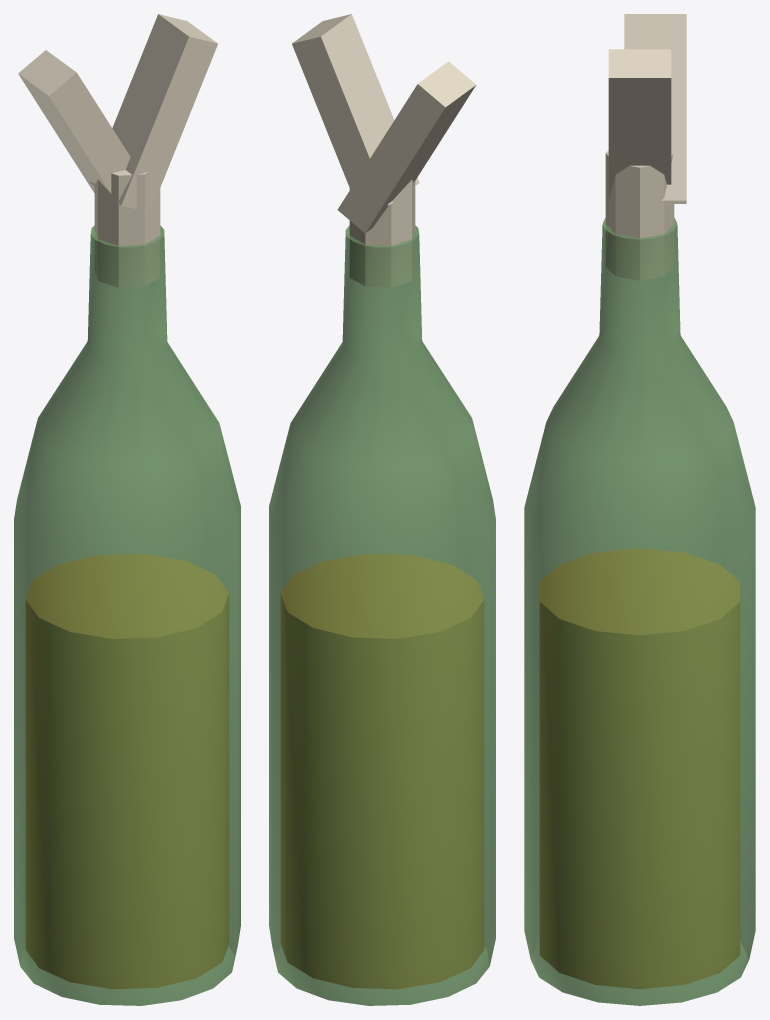
The model's file is molotov.glb.
The picture shows the model from 3 angles, left to right: view 1: azimuth 30°, elevation 25°; view 2: azimuth 150°, elevation 25°; view 3: azimuth 270°, elevation 25°; orthographic projection.
Visible parts, largest first — view 1: molotov_mesh; view 2: molotov_mesh; view 3: molotov_mesh.
Boxes of the visible parts, x1,y1,x2,y2 form: molotov_mesh: (14,14,240,1005); molotov_mesh: (269,14,495,1005); molotov_mesh: (524,14,755,1005).
Size of the model in its own units: 0.074 by 0.3297 by 0.074.
